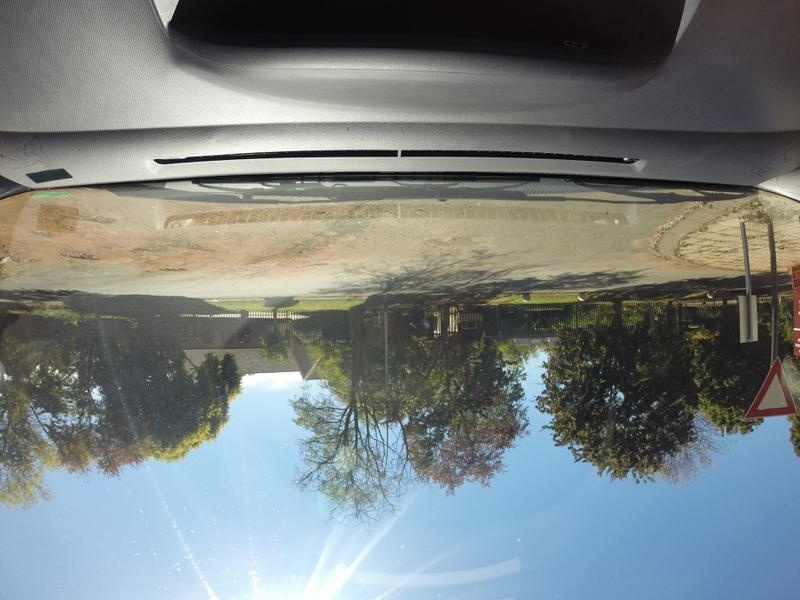pothole: (54, 250, 100, 266), (132, 237, 188, 250), (78, 208, 109, 227), (158, 264, 182, 277)
